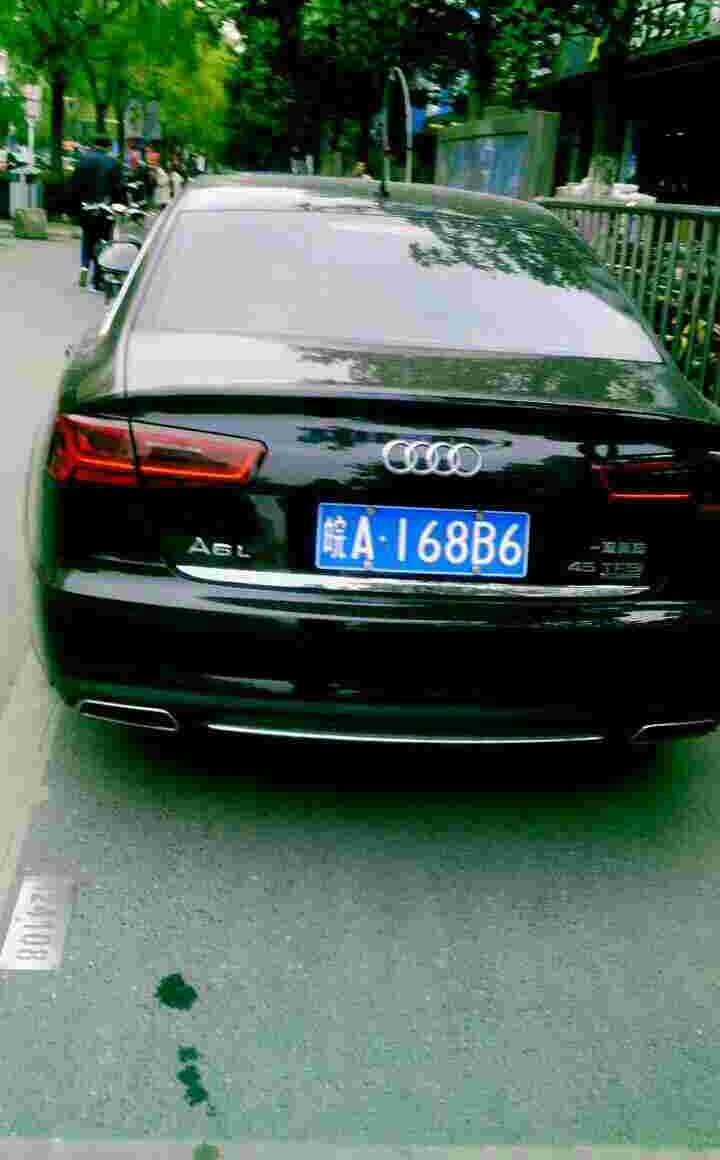license_plate: (298, 504, 528, 583)
